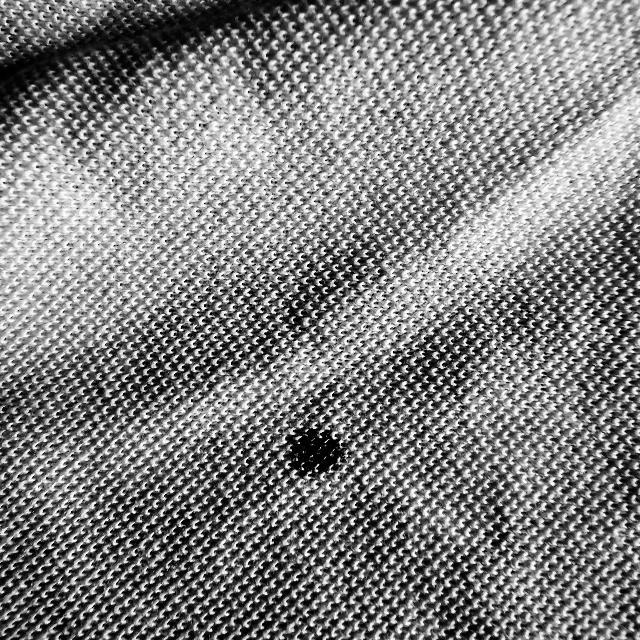Color_defect: (280, 423, 354, 479)
